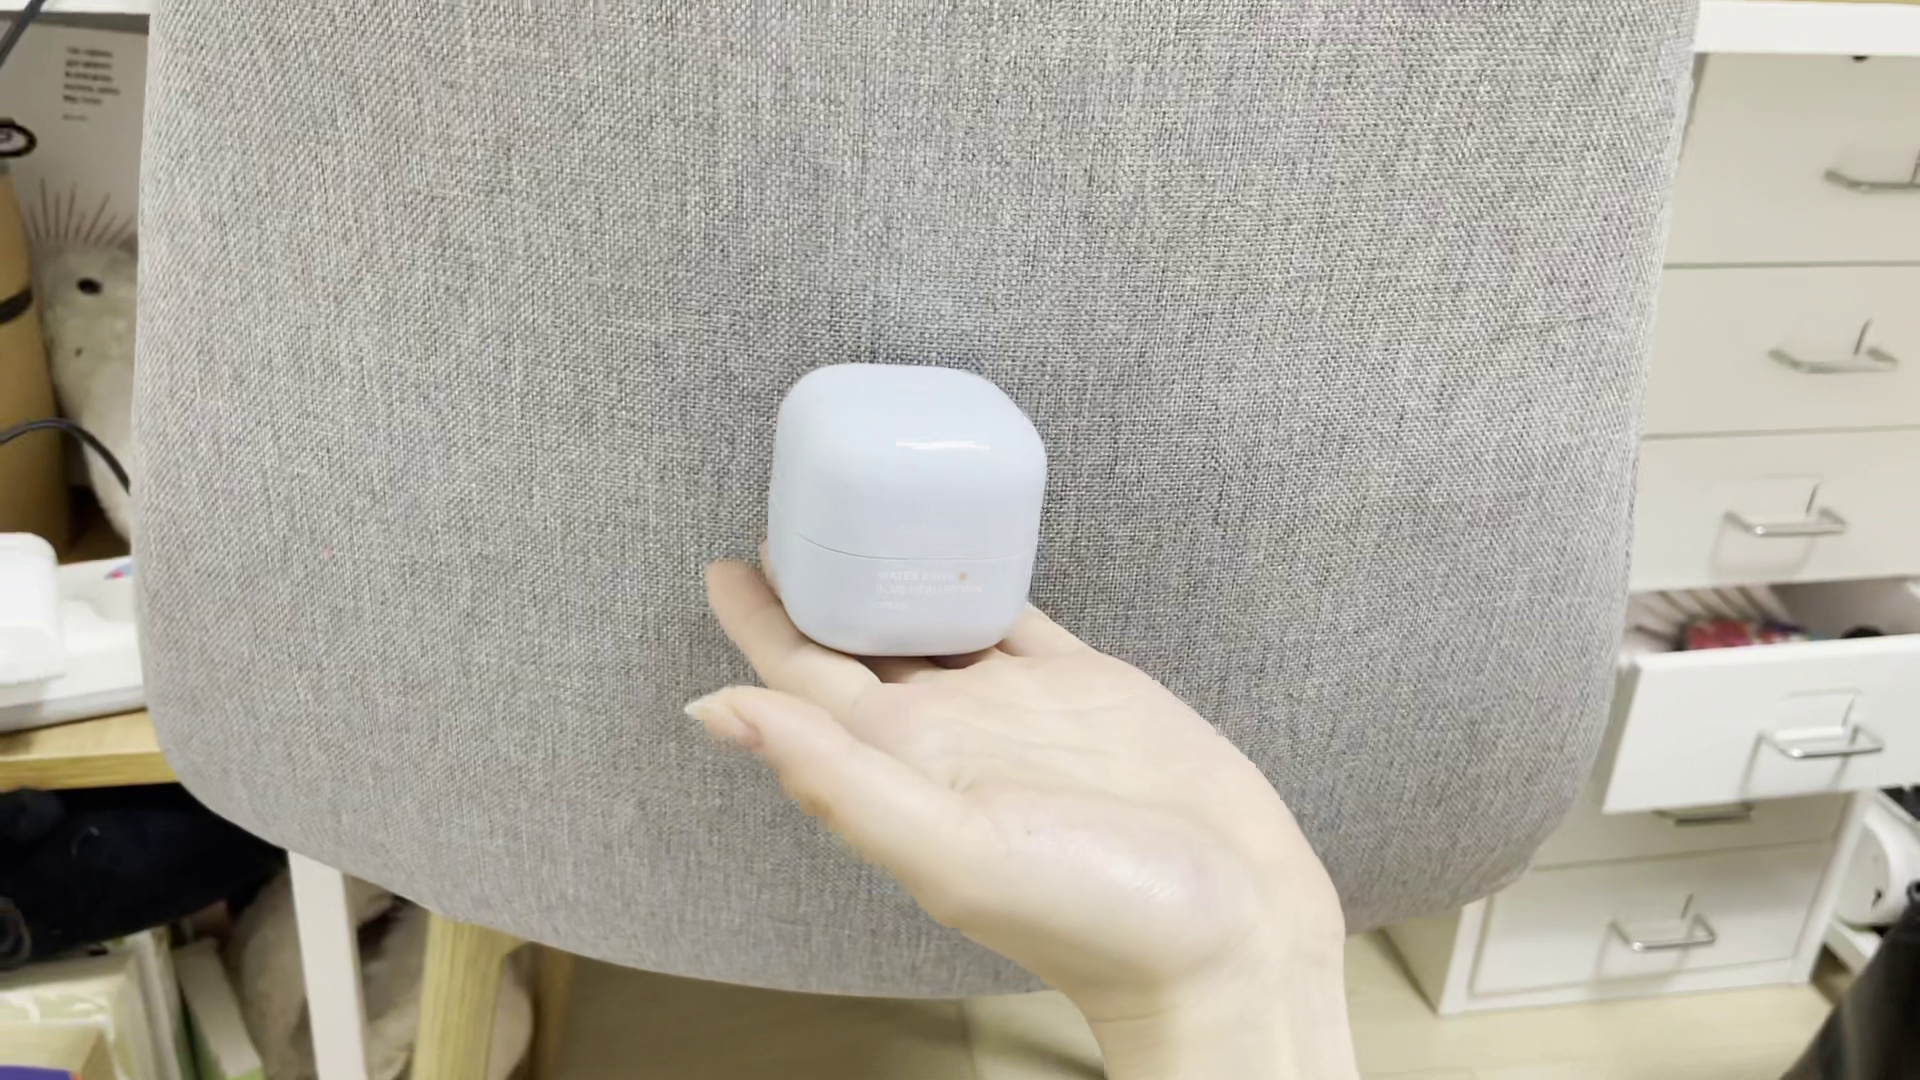cream: (762, 364, 1048, 655)
